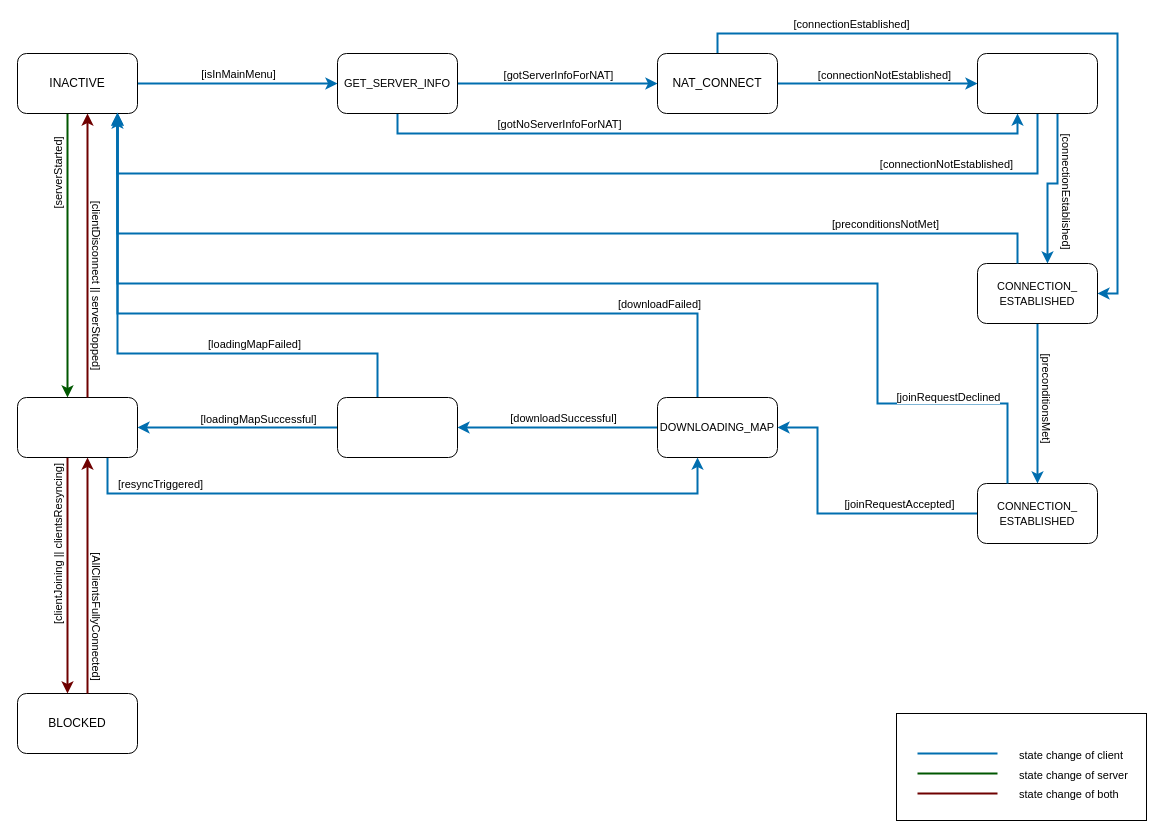
The diagram is 1164 pixels wide and 838 high, and some of its shapes have lost their labels. The box of each missing label's shape, as (x1, y1, x2, y2) in pixels:
DIRECT_CONNECT: (976, 52, 1098, 114)
legend: (896, 712, 1146, 820)
LOADING_MAP: (336, 396, 458, 458)
PLAYING: (16, 396, 138, 458)
